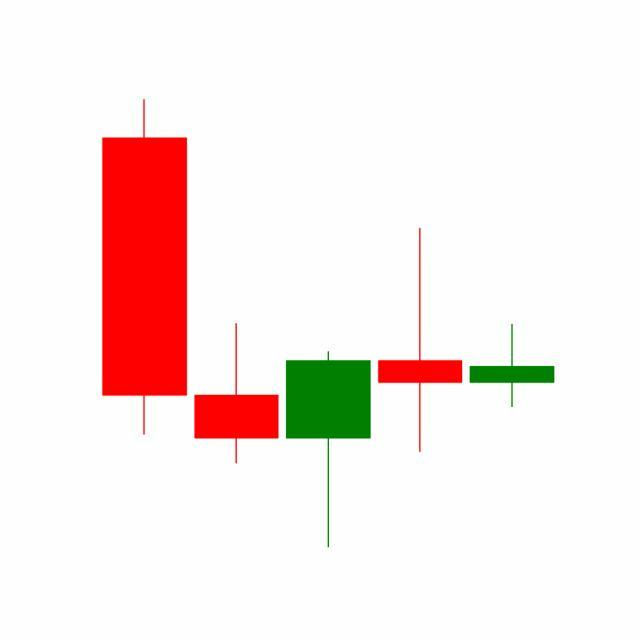Gravestone Doji: (466, 323, 559, 409)
